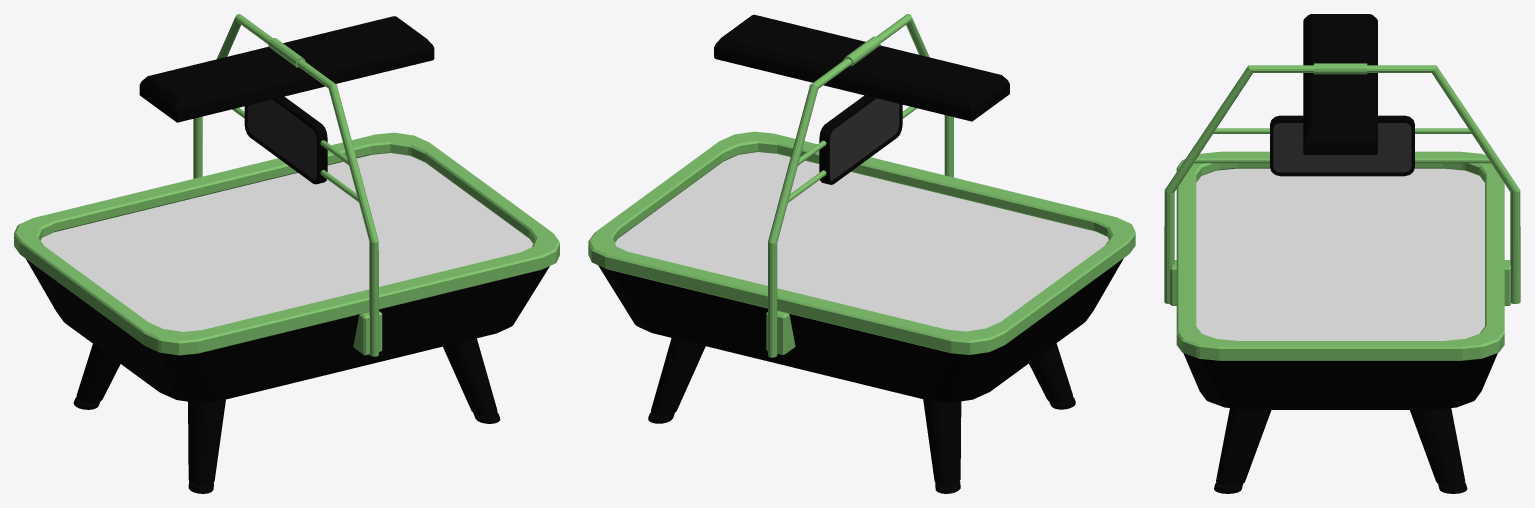
Rendered from table_v2.fbx.
3 views of the same model, side by side, from view 1: azimuth 30°, elevation 25°; view 2: azimuth 150°, elevation 25°; view 3: azimuth 270°, elevation 25° (orthographic). The views are drawn at different scales.
Parts seen in each view (by area): view 1: play_plane, body, border, top, screen; view 2: play_plane, body, border, top, screen; view 3: play_plane, body, top, border, screen.
Part boxes in pixels (x1=…): play_plane: x1=40, y1=153, x2=532, y2=331; body: x1=26, y1=259, x2=549, y2=493; border: x1=14, y1=132, x2=559, y2=355; top: x1=139, y1=14, x2=434, y2=356; screen: x1=248, y1=99, x2=316, y2=180; play_plane: x1=615, y1=152, x2=1108, y2=331; body: x1=598, y1=258, x2=1123, y2=493; border: x1=588, y1=131, x2=1135, y2=354; top: x1=714, y1=14, x2=1009, y2=357; screen: x1=830, y1=98, x2=899, y2=180; play_plane: x1=1196, y1=168, x2=1484, y2=340; body: x1=1170, y1=260, x2=1510, y2=493; top: x1=1164, y1=14, x2=1520, y2=303; border: x1=1176, y1=151, x2=1504, y2=360; screen: x1=1273, y1=123, x2=1411, y2=172.
Size of the model in its own units: 293 by 249 by 225.
